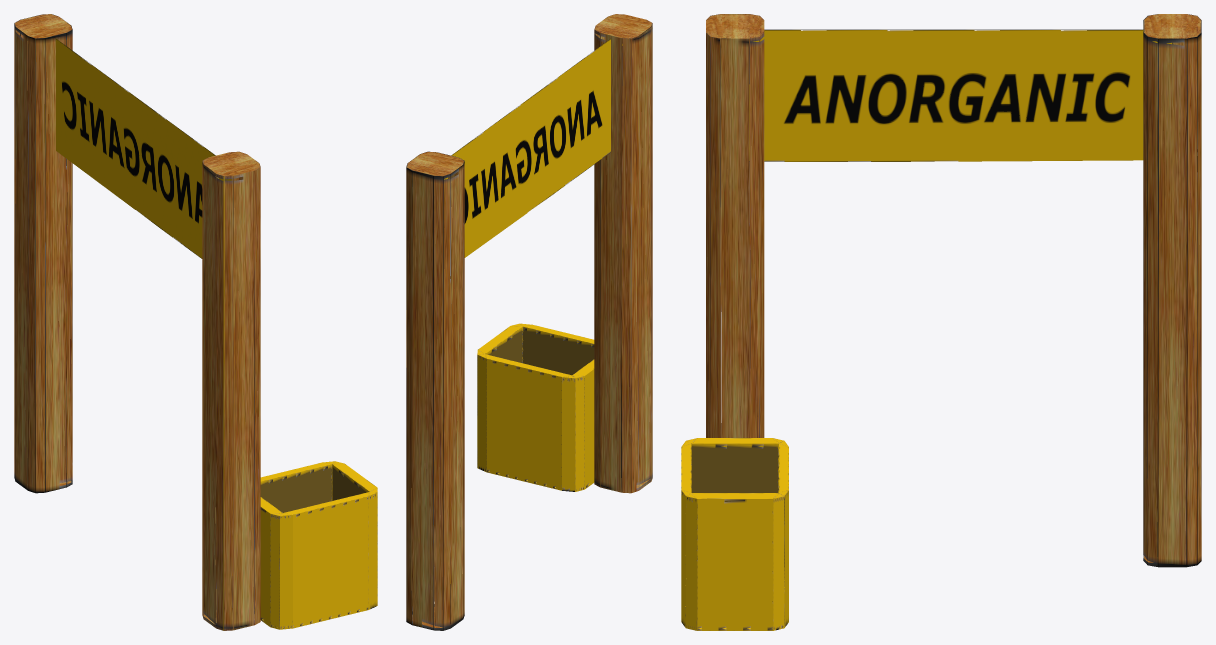
Rendered from PORTAL ANORGANIC.fbx.
The picture shows the model from 3 angles, left to right: view 1: azimuth 30°, elevation 25°; view 2: azimuth 150°, elevation 25°; view 3: azimuth 270°, elevation 25°; orthographic projection. The views are drawn at different scales.
Visible parts, largest first — view 1: Cube.004; view 2: Cube.004; view 3: Cube.004.
Part boxes in pixels (x1,y1,x2,y2): Cube.004: [14, 14, 377, 630]; Cube.004: [406, 14, 652, 630]; Cube.004: [681, 14, 1201, 630].
Bounding box in the file's own units: 139 × 402 × 357.
3 materials, 3 textured.
